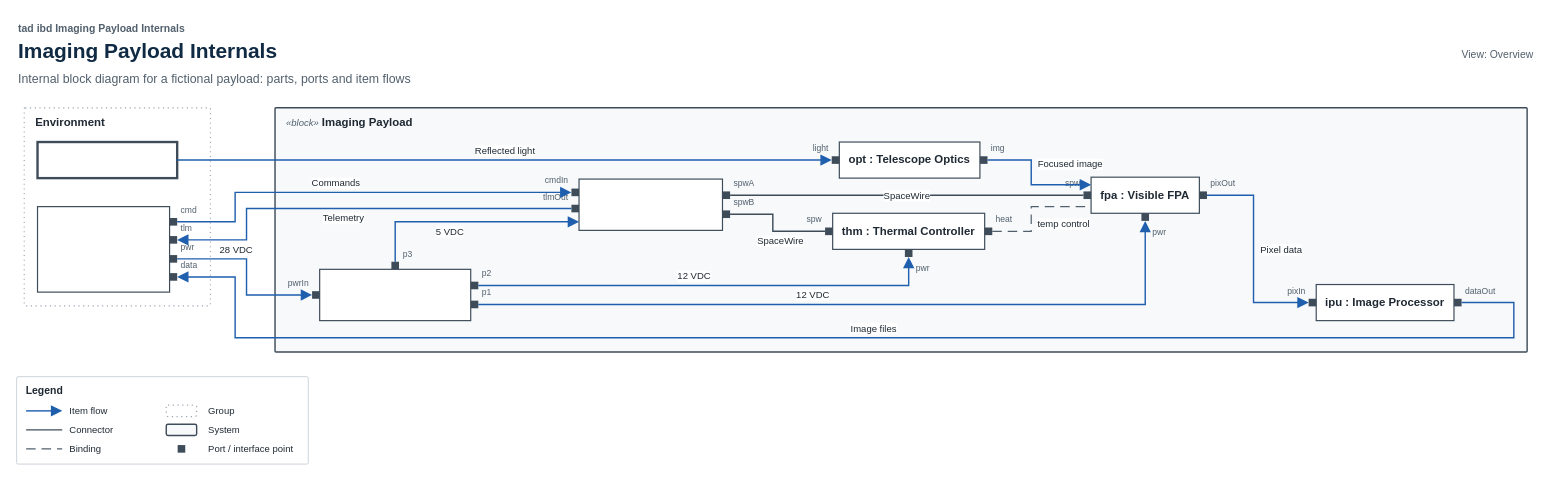
Some shapes in this 1551 by 481 pixel diagram are drawn without their labels. The shapes that lost their labels are listed below. From the top down, each one's centre as x and y in pixels, then its label:
point (107, 159): scene : Ground Scene
point (650, 204): ctl : Payload Controller
point (103, 249): bus : Spacecraft Bus
point (395, 294): pdu : Power Distribution
